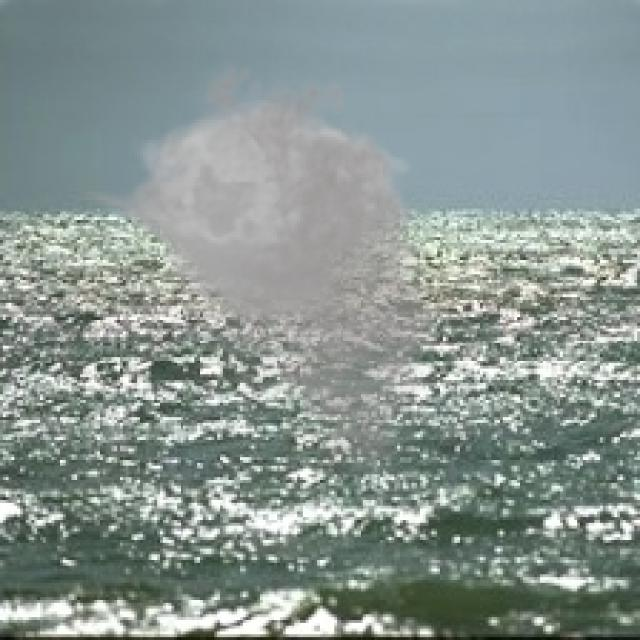smoke: (77, 52, 452, 477)
